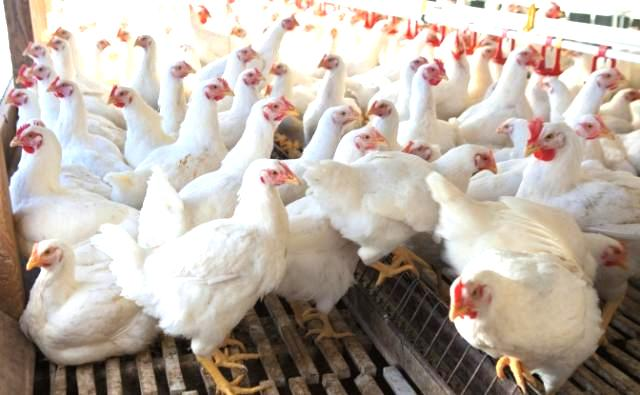Healthy: (95, 152, 304, 395)
